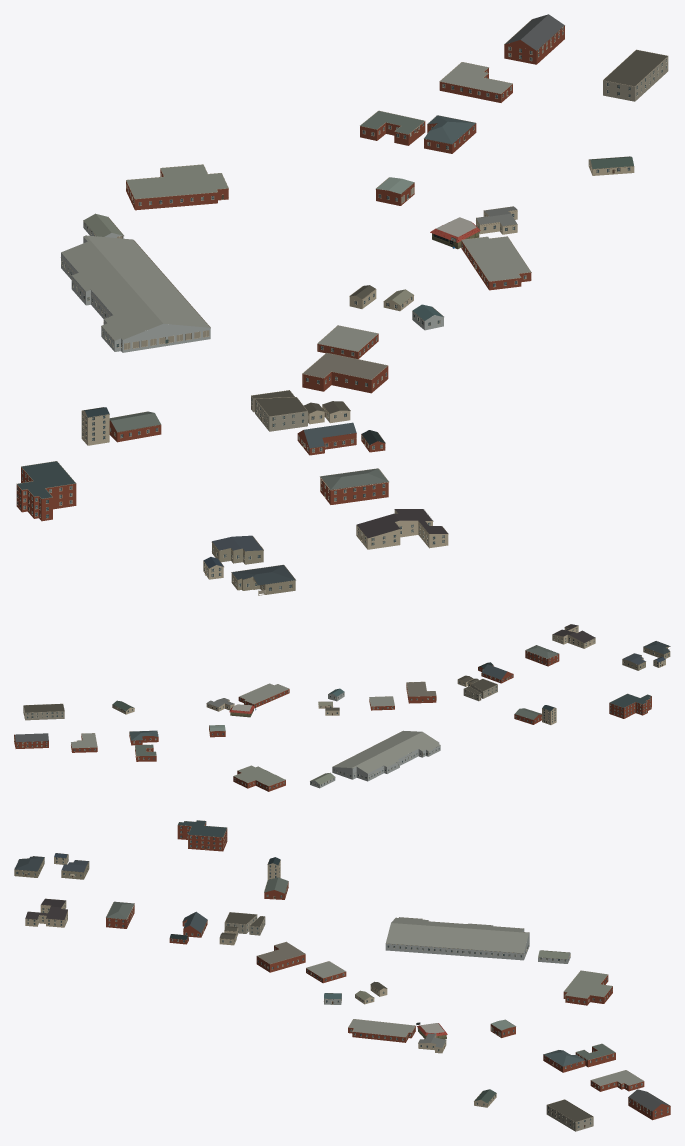
3 renders of one model, top to bottom at view 1: azimuth 30°, elevation 25°; view 2: azimuth 150°, elevation 25°; view 3: azimuth 270°, elevation 25°, orthographic. The views are drawn at different scales.
Visible parts, largest first — view 1: 0_-2_292661018_0, 0_-2_292661253_3, 0_-2_292661268_5, 0_-2_1150516045_73, 0_-2_625344694_31, 0_-2_292661202_1; view 2: 0_-2_292661018_0, 0_-2_292661253_3, 0_-2_292661268_5, 0_-2_1150516045_73, 0_-2_625344694_31, 0_-2_292661202_1; view 3: 0_-2_292661018_0, 0_-2_292661253_3, 0_-2_292661268_5, 0_-2_1150516045_73.
Part boxes in pixels (left/top/right/bottom): 0_-2_292661018_0: left=16, top=14, right=667, bottom=595; 0_-2_292661253_3: left=16, top=25, right=564, bottom=521; 0_-2_292661268_5: left=61, top=194, right=443, bottom=352; 0_-2_1150516045_73: left=251, top=56, right=668, bottom=431; 0_-2_625344694_31: left=212, top=542, right=295, bottom=594; 0_-2_292661202_1: left=430, top=217, right=480, bottom=249; 0_-2_292661018_0: left=14, top=624, right=670, bottom=788; 0_-2_292661253_3: left=14, top=650, right=651, bottom=791; 0_-2_292661268_5: left=310, top=692, right=440, bottom=788; 0_-2_1150516045_73: left=23, top=684, right=497, bottom=720; 0_-2_625344694_31: left=622, top=646, right=670, bottom=670; 0_-2_292661202_1: left=229, top=704, right=256, bottom=717; 0_-2_292661018_0: left=14, top=820, right=670, bottom=1129; 0_-2_292661253_3: left=106, top=822, right=670, bottom=1120; 0_-2_292661268_5: left=324, top=920, right=570, bottom=1033; 0_-2_1150516045_73: left=224, top=915, right=593, bottom=1131.
Size of the model in its own units: 517 by 26.19 by 493.
